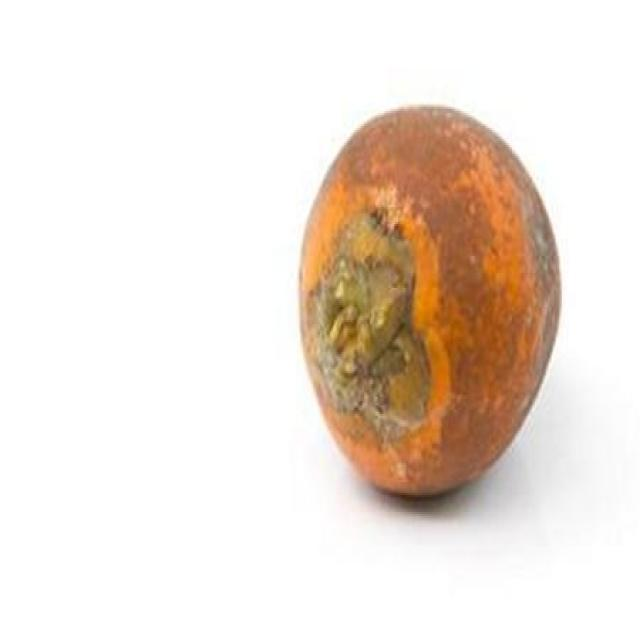good: (297, 107, 563, 501)
